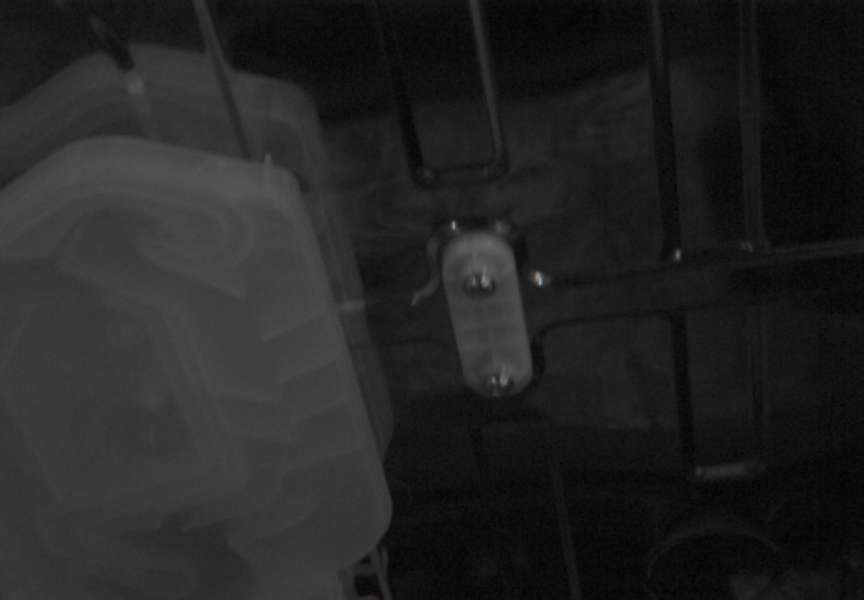screw: (463, 269, 496, 297), (484, 369, 515, 397)
